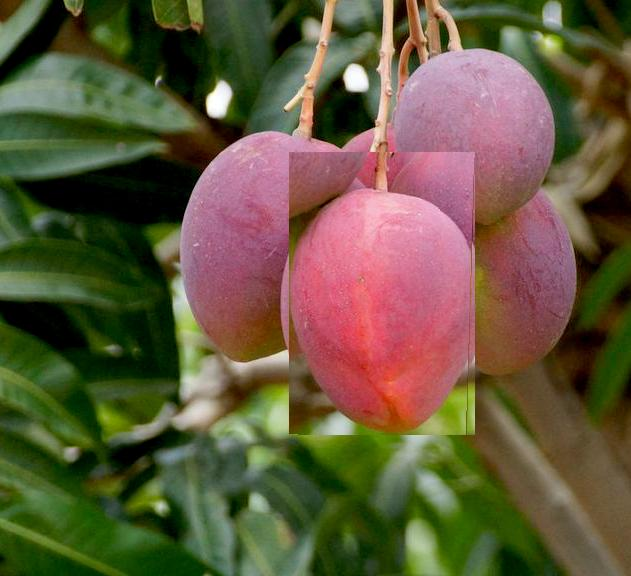Mango Semifresh: (290, 153, 476, 436)
